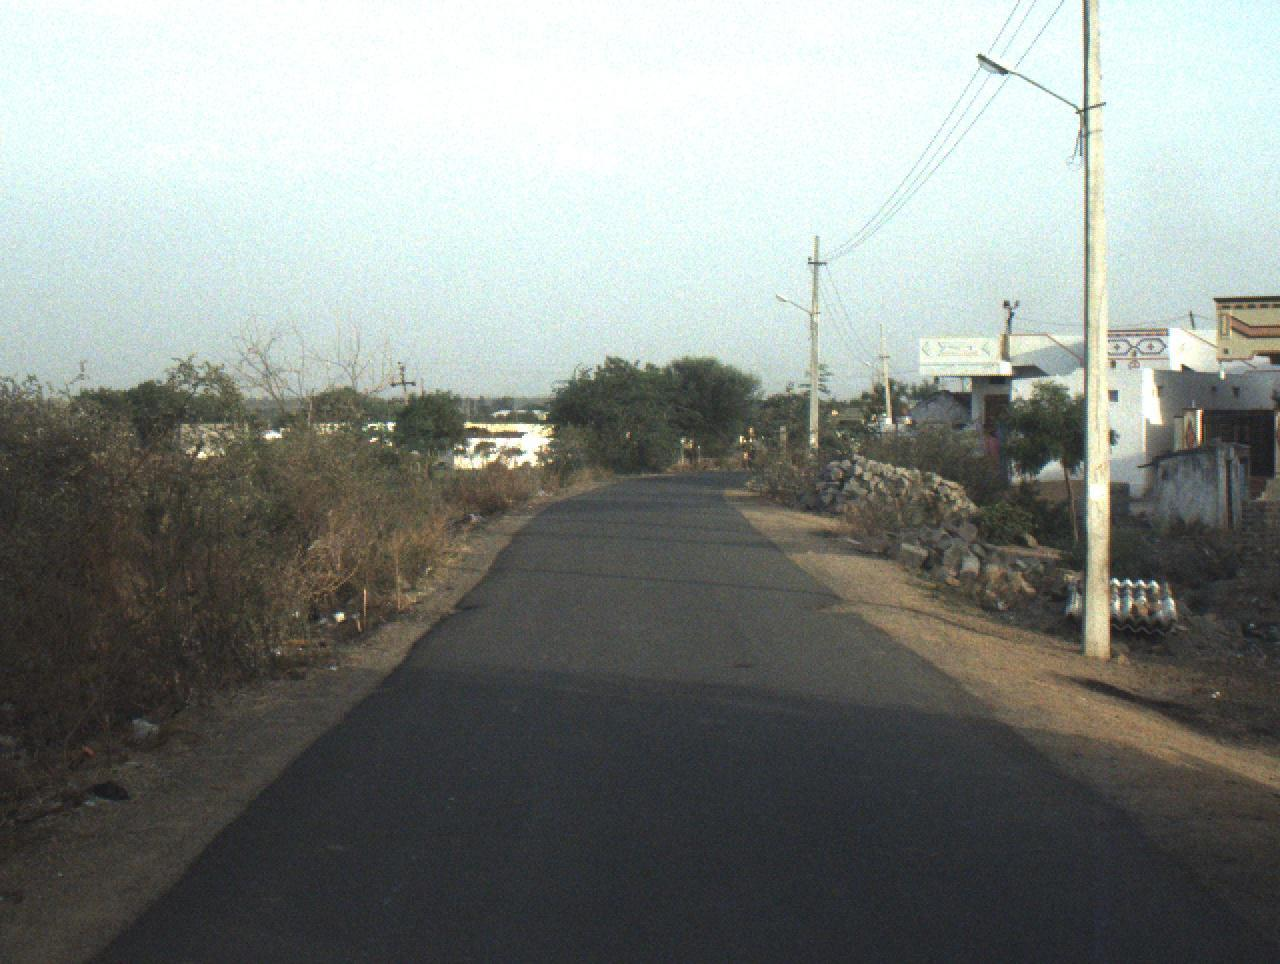off: (15, 111, 1280, 964)
